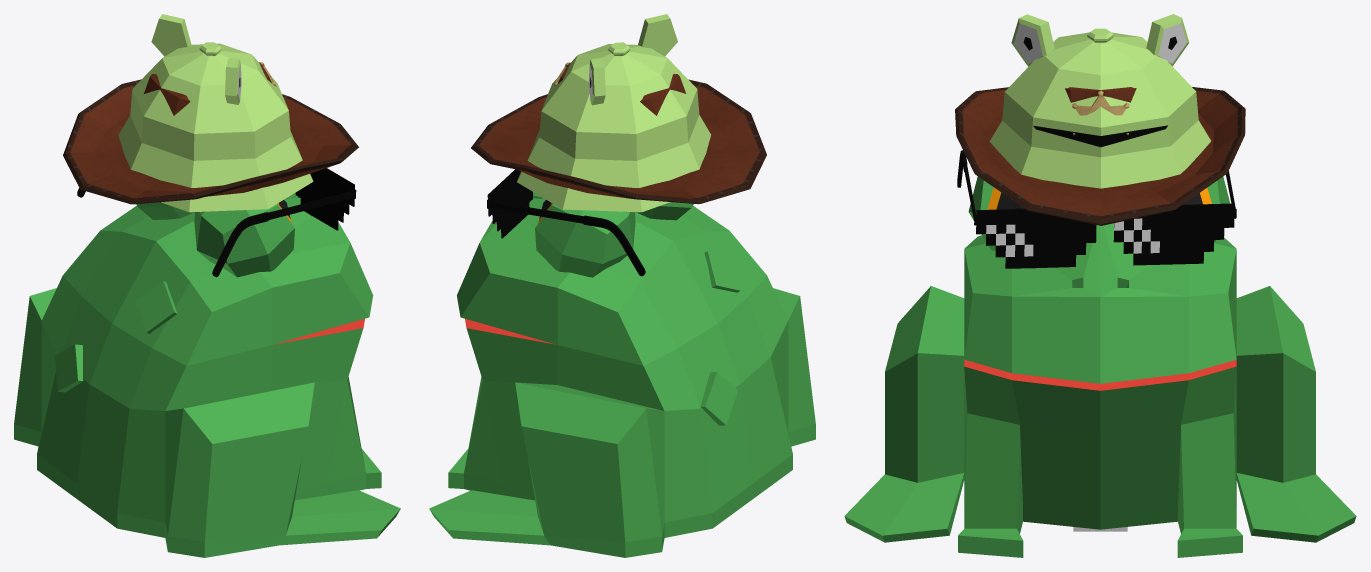
The model's file is frog-sheriffhat.glb.
The picture shows the model from 3 angles, left to right: view 1: azimuth 30°, elevation 25°; view 2: azimuth 150°, elevation 25°; view 3: azimuth 270°, elevation 25°; orthographic projection. The views are drawn at different scales.
Parts seen in each view (by area): view 1: Frog_01_Cube.029, FrogHat_Cylinder, SheriffHat_Mesh, glasses16.001; view 2: Frog_01_Cube.029, FrogHat_Cylinder, SheriffHat_Mesh, glasses16.001; view 3: Frog_01_Cube.029, FrogHat_Cylinder, SheriffHat_Mesh, glasses16.001.
Part boxes in pixels (x1,y1,x2,y2): Frog_01_Cube.029: [14, 192, 400, 557]; FrogHat_Cylinder: [118, 14, 313, 212]; SheriffHat_Mesh: [63, 62, 358, 204]; glasses16.001: [77, 168, 356, 277]; Frog_01_Cube.029: [429, 192, 815, 557]; FrogHat_Cylinder: [517, 14, 710, 212]; SheriffHat_Mesh: [471, 62, 766, 204]; glasses16.001: [487, 169, 645, 276]; Frog_01_Cube.029: [844, 176, 1356, 557]; FrogHat_Cylinder: [989, 14, 1210, 188]; SheriffHat_Mesh: [955, 87, 1245, 225]; glasses16.001: [957, 150, 1236, 268].
Size of the model in its own units: 12.88 by 20.11 by 18.81.
11 materials, 1 textured.
